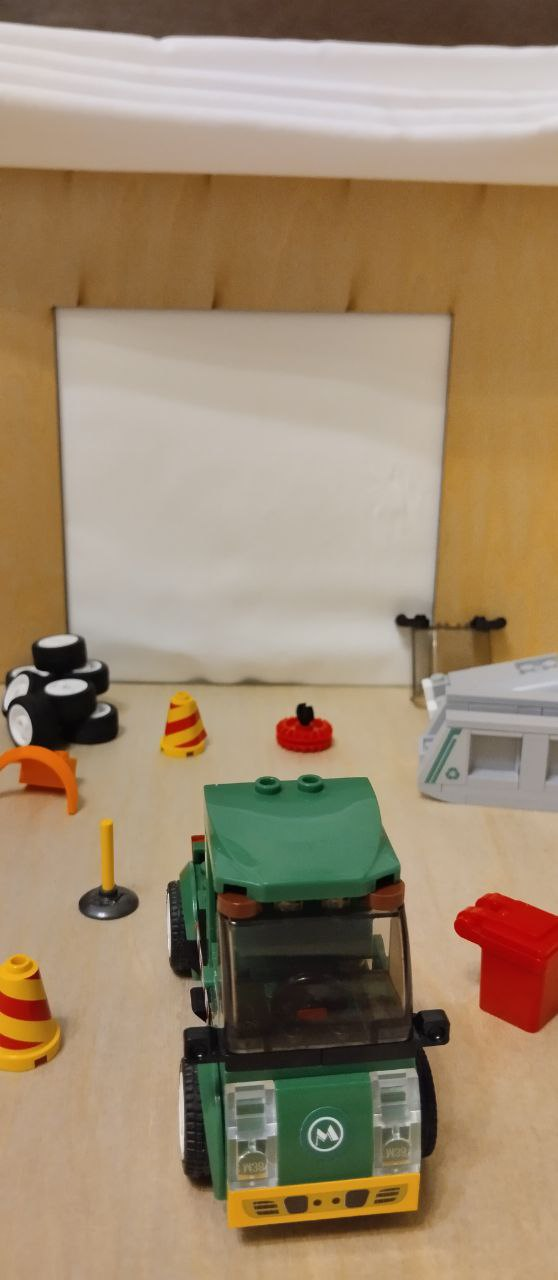Cone: (0, 940, 69, 1081), (154, 690, 213, 760)
Object Red: (443, 876, 557, 1040)
Truck: (161, 761, 461, 1237)
